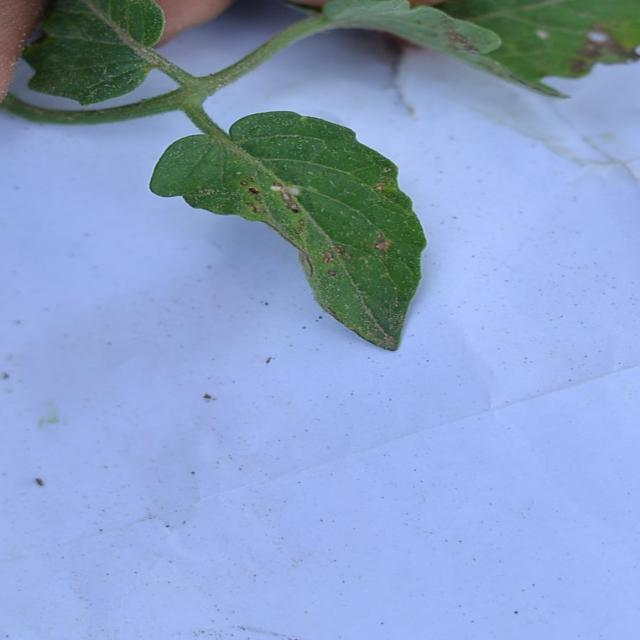infected: (221, 160, 415, 350), (434, 13, 640, 112)
